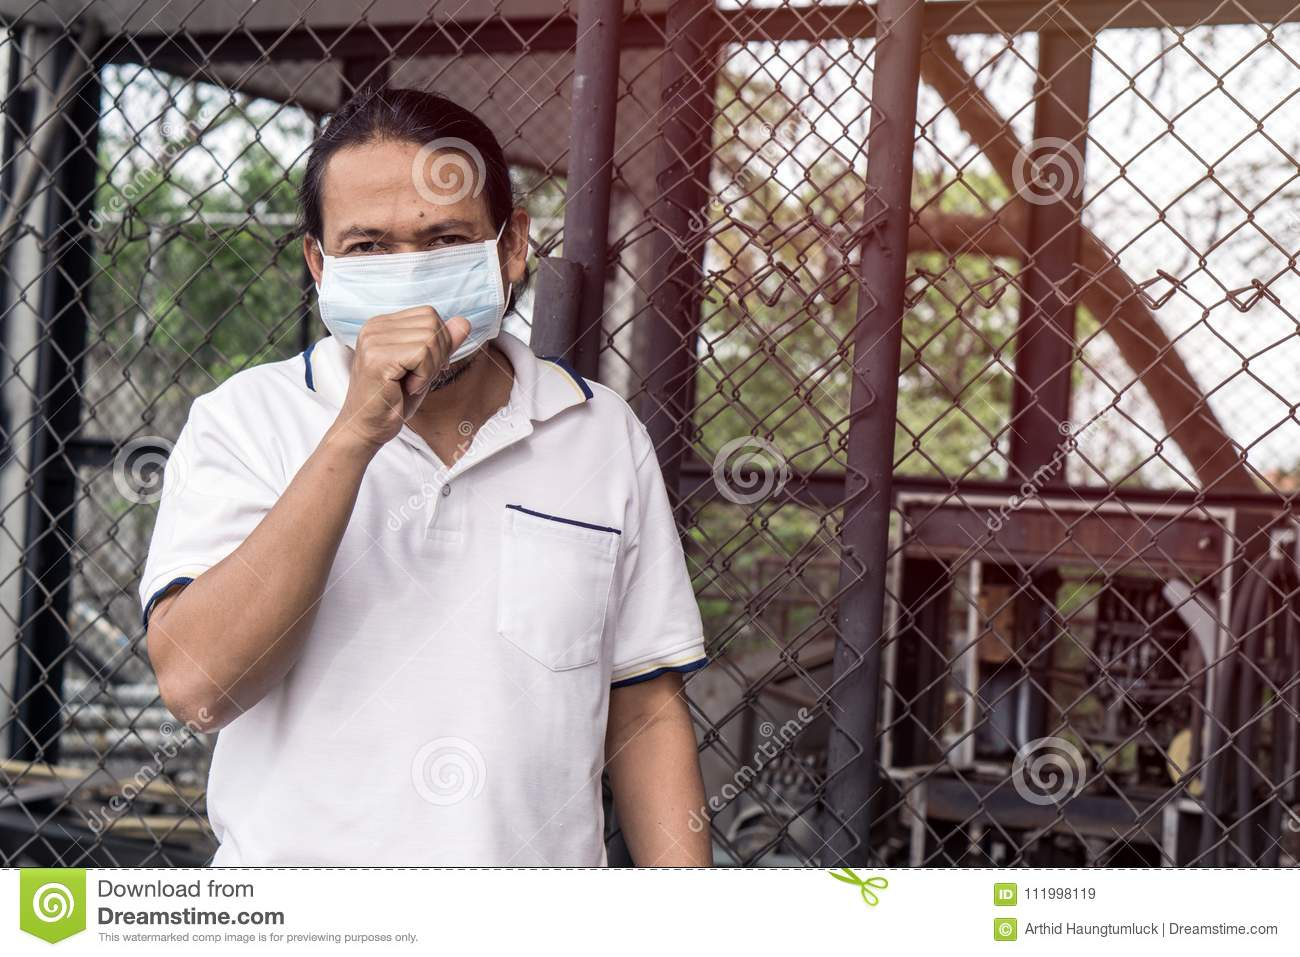mask: (315, 256, 504, 374)
